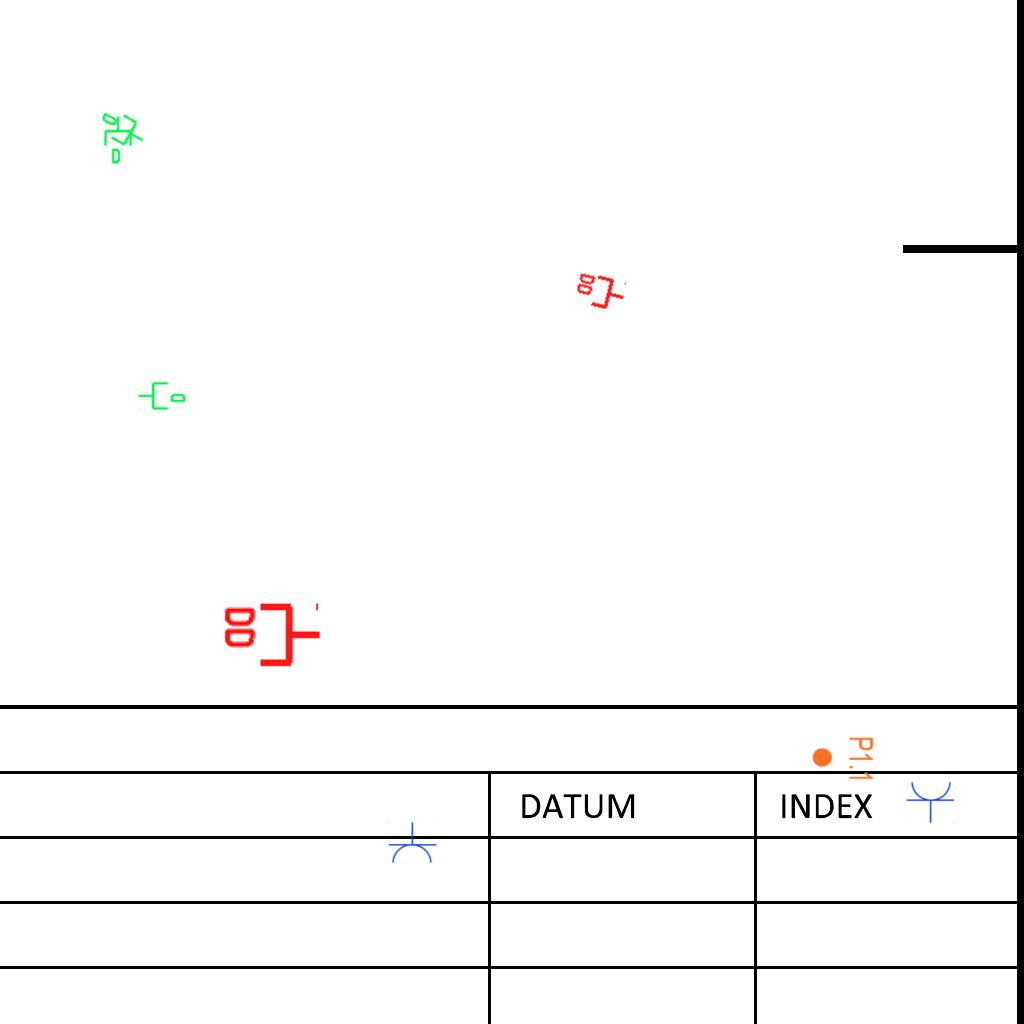Datenanschluss_einfach: (91, 103, 153, 157), (137, 378, 187, 412), (102, 115, 136, 165)
Datenanschluss_zweifach: (220, 602, 323, 671), (571, 269, 629, 316)
Downlight_LED_Einbauleuchten_Flur: (811, 736, 875, 782)
Schukosteckdose_einfach: (906, 780, 956, 823), (387, 822, 437, 865)
